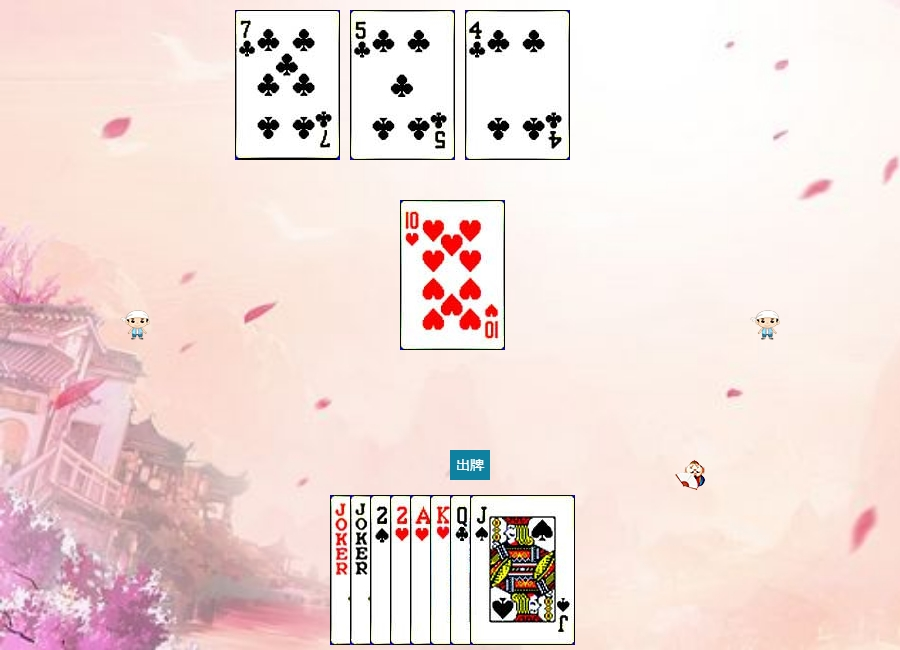10~3: (400, 200, 505, 350)
11~4: (470, 495, 575, 645)
12~2: (450, 495, 555, 645)
13~3: (430, 495, 535, 645)
14~3: (410, 495, 515, 645)
15~3: (390, 495, 495, 645)
15~4: (370, 495, 475, 645)
17~3: (350, 495, 455, 645)
18~4: (330, 495, 435, 645)
4~2: (465, 10, 570, 160)
5~2: (350, 10, 455, 160)
7~2: (235, 10, 340, 160)
